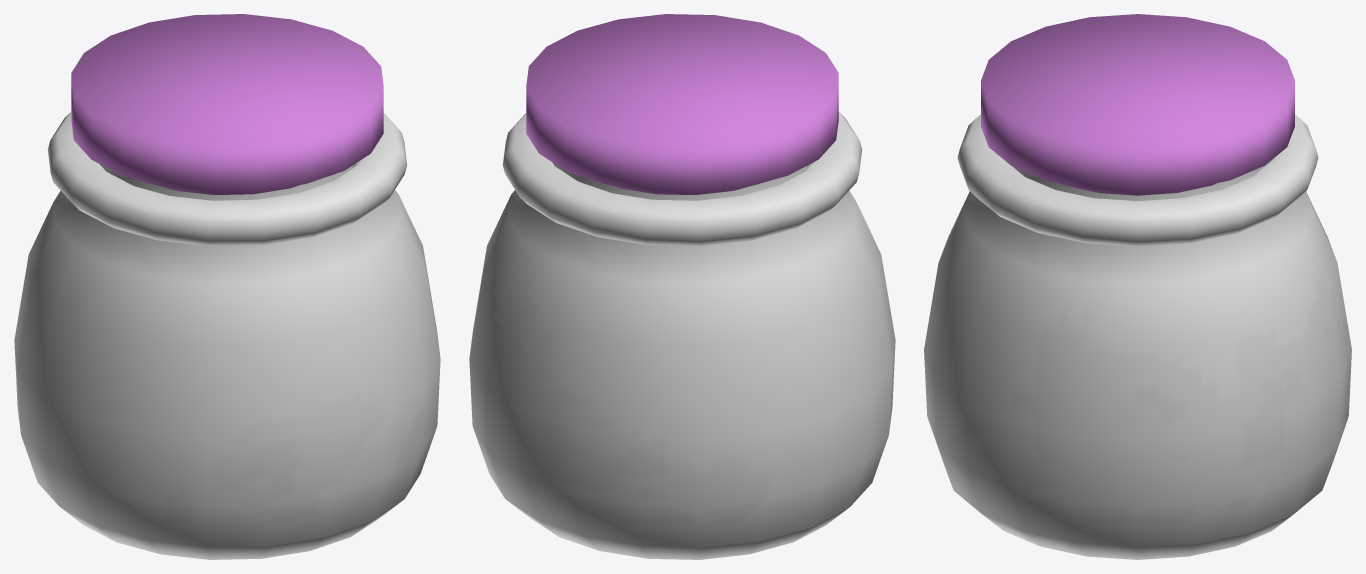
Rendered from pi_glasspot10_peanutbutter.gltf.
The picture shows the model from 3 angles, left to right: view 1: azimuth 30°, elevation 25°; view 2: azimuth 150°, elevation 25°; view 3: azimuth 270°, elevation 25°; orthographic projection.
Visible parts, largest first — view 1: pi_glasspot01_outside01_mesh_shape__duprename_6e03cf5x:pi_gl, pi_glasspot10_lid01_mesh_shape:pi_glasspot10_body, pi_glasspot10_inside01_mesh_shape:pi_glasspot10_glass; view 2: pi_glasspot01_outside01_mesh_shape__duprename_6e03cf5x:pi_gl, pi_glasspot10_lid01_mesh_shape:pi_glasspot10_body, pi_glasspot10_inside01_mesh_shape:pi_glasspot10_glass; view 3: pi_glasspot01_outside01_mesh_shape__duprename_6e03cf5x:pi_gl, pi_glasspot10_lid01_mesh_shape:pi_glasspot10_body, pi_glasspot10_inside01_mesh_shape:pi_glasspot10_glass.
Part boxes in pixels (x1,y1,x2,y2): pi_glasspot01_outside01_mesh_shape__duprename_6e03cf5x:pi_gl: (14,112,440,559); pi_glasspot10_lid01_mesh_shape:pi_glasspot10_body: (71,14,383,195); pi_glasspot10_inside01_mesh_shape:pi_glasspot10_glass: (102,165,352,200); pi_glasspot01_outside01_mesh_shape__duprename_6e03cf5x:pi_gl: (469,112,895,559); pi_glasspot10_lid01_mesh_shape:pi_glasspot10_body: (526,14,838,195); pi_glasspot10_inside01_mesh_shape:pi_glasspot10_glass: (557,165,807,200); pi_glasspot01_outside01_mesh_shape__duprename_6e03cf5x:pi_gl: (924,114,1351,559); pi_glasspot10_lid01_mesh_shape:pi_glasspot10_body: (981,14,1294,195); pi_glasspot10_inside01_mesh_shape:pi_glasspot10_glass: (1012,166,1263,200).
Size of the model in its own units: 0.0943 by 0.0997 by 0.0943.
3 materials, 3 textured.
